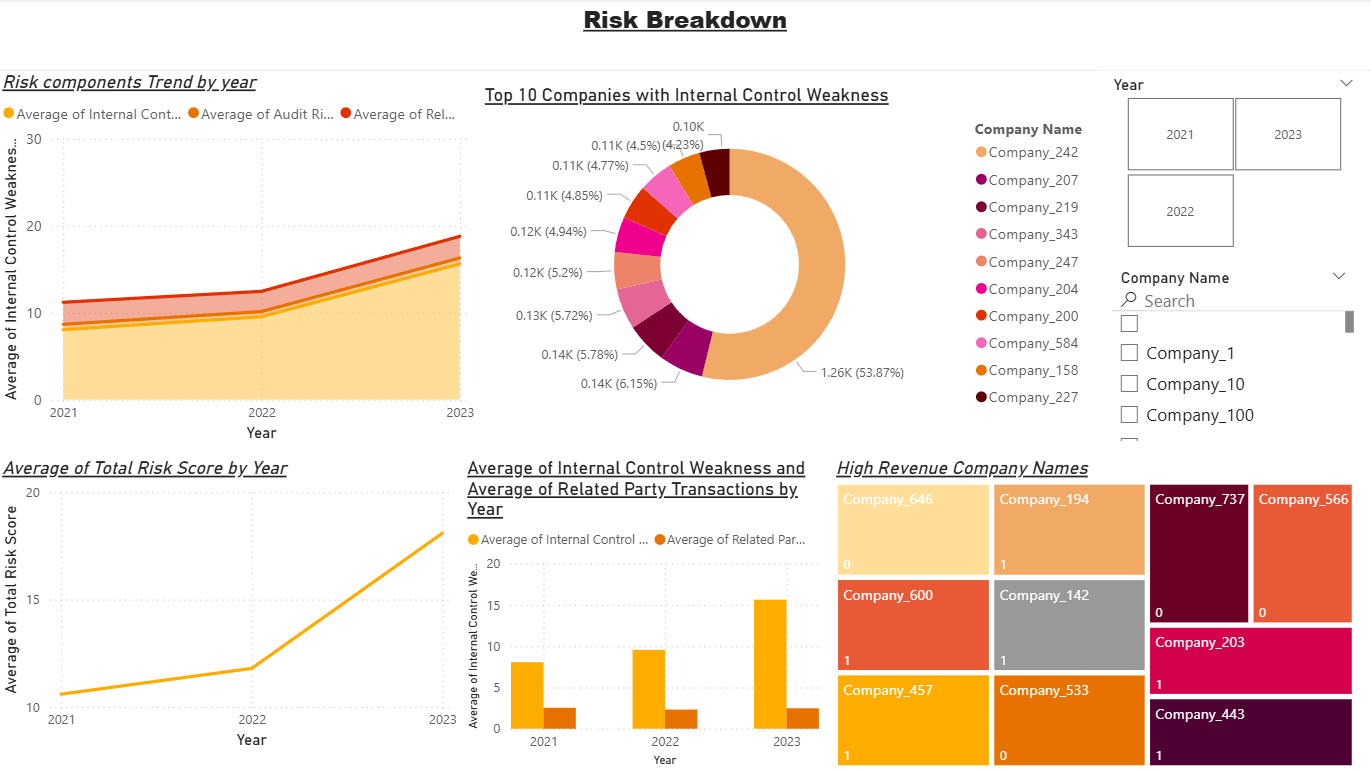

What the dashboard file says about the page in this screenshot:
{"tool":"powerbi","page":{"name":"Risk Breakdown","canvas":[1280,720],"ordinal":1},"visuals":[{"type":"stackedAreaChart","title":"Risk components Trend by year","fields":{"Category":["enhanced_audit_dataset.Year"],"Y":["Avg(enhanced_audit_dataset.Internal Control Weakness)","Avg(enhanced_audit_dataset.Audit Risk (High/Low))","Avg(enhanced_audit_dataset.Related Party Transactions)"]},"box":[0,67.4,448.8,350],"z":0},{"type":"lineChart","fields":{"Y":["Avg(enhanced_audit_dataset.Total Risk Score)"],"Category":["enhanced_audit_dataset.Year"]},"box":[0,426.7,432.6,276.7],"z":1000},{"type":"treemap","title":"High Revenue Company Names","fields":{"Values":["Sum(enhanced_audit_dataset.Revenue (USD))"],"Group":["enhanced_audit_dataset.Company Name"],"Details":["enhanced_audit_dataset.Audit Risk (High/Low)"]},"box":[775.6,426.7,491.9,294.2],"z":2000},{"type":"textbox","box":[0,0,1280.3,67.2],"z":3000},{"type":"slicer","fields":{"Values":["enhanced_audit_dataset.Year"]},"box":[1025.6,67.4,248.8,170.9],"z":4000},{"type":"slicer","fields":{"Values":["enhanced_audit_dataset.Company Name"]},"box":[1032.6,246.5,234.9,170.9],"z":5000},{"type":"clusteredColumnChart","fields":{"Category":["enhanced_audit_dataset.Year"],"Y":["Avg(enhanced_audit_dataset.Internal Control Weakness)","Avg(enhanced_audit_dataset.Related Party Transactions)"]},"box":[432.6,426.7,337.2,293],"z":6000},{"type":"donutChart","title":"Top 10 Companies with  Internal Control Weakness","fields":{"Category":["enhanced_audit_dataset.Company Name"],"Y":["Avg(enhanced_audit_dataset.Internal Control Weakness)"]},"box":[448.8,80.2,583.7,316.3],"z":7000}]}

Visuals, with their boxes in screenshot pixels (x1, y1, x2, y2), scaled from the page's 1280x720 canvas onto the 1371x770 screenshot:
"Risk components Trend by year" stackedAreaChart: (left=0, top=72, right=481, bottom=446)
lineChart - Avg(enhanced_audit_dataset.Total Risk Score) x enhanced_audit_dataset.Year: (left=0, top=456, right=463, bottom=752)
"High Revenue Company Names" treemap: (left=831, top=456, right=1358, bottom=769)
textbox: (left=0, top=0, right=1370, bottom=72)
slicer - enhanced_audit_dataset.Year: (left=1099, top=72, right=1365, bottom=255)
slicer - enhanced_audit_dataset.Company Name: (left=1106, top=264, right=1358, bottom=446)
clusteredColumnChart - enhanced_audit_dataset.Year x Avg(enhanced_audit_dataset.Internal Control Weakness): (left=463, top=456, right=825, bottom=769)
"Top 10 Companies with  Internal Control Weakness" donutChart: (left=481, top=86, right=1106, bottom=424)
